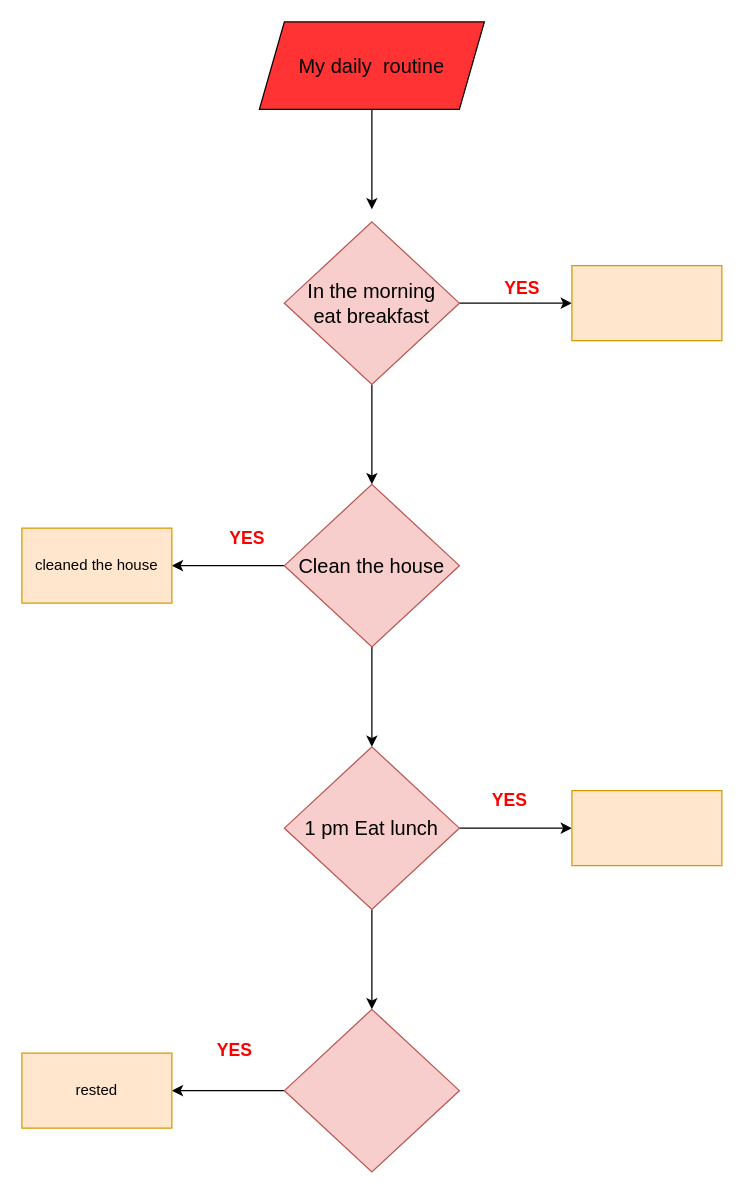
This 744x1194 diagram has some shape labels left out. The shapes that lost their labels are listed below. From the top down, each one's box as (x1, y1, x2, y2) in pixels, then its label:
(571, 264, 722, 341): Ate breakfast.
(571, 789, 722, 866): ate lunch
(283, 1008, 459, 1172): Rest for 2-3 hours
